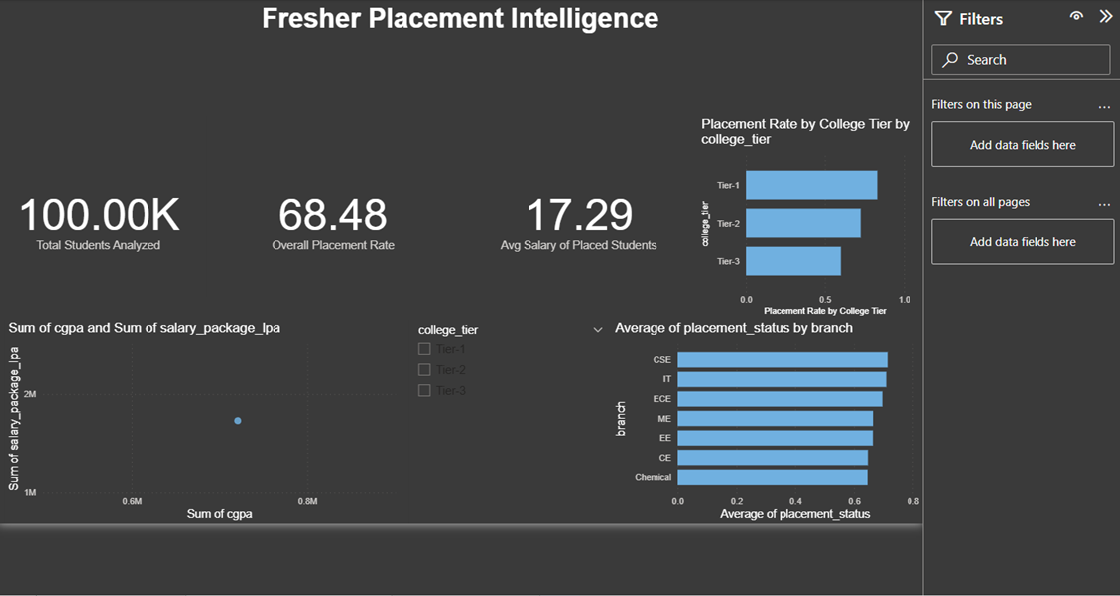

Layout of this report page (visuals, bound fields, positions):
{"tool":"powerbi","page":{"name":"Fresher Placement Intelligence","canvas":[1280,720],"ordinal":1},"visuals":[{"type":"card","fields":{"Values":["CountNonNull(placement_clean.placement_status)"]},"box":[0,160.5,279.9,279.9],"z":0},{"type":"card","fields":{"Values":["hr_clean.Overall Placement Rate"]},"box":[289.5,160.5,349.9,279.9],"z":1},{"type":"card","fields":{"Values":["Avg(placement_clean.salary_package_lpa)"]},"box":[639.5,160.5,329.3,279.9],"z":2},{"type":"clusteredBarChart","fields":{"Category":["placement_clean.college_tier"],"Y":["Avg(placement_clean.placement_status)"]},"box":[968.8,160.5,299.1,279.9],"z":3},{"type":"scatterChart","fields":{"X":["Sum(placement_clean.cgpa)"],"Y":["Sum(placement_clean.salary_package_lpa)"]},"box":[9.6,440.5,559.9,279.9],"z":4},{"type":"clusteredBarChart","fields":{"Category":["placement_clean.branch"],"Y":["Avg(placement_clean.placement_status)"]},"box":[849.4,440.5,430.9,279.9],"z":5},{"type":"slicer","fields":{"Values":["placement_clean.college_tier"]},"box":[569.5,440.5,279.9,279.9],"z":6},{"type":"textbox","box":[0,0,1280.3,112.5],"z":7}]}

Visuals, with their boxes on the page's 1280x720 design canvas (x1, y1, x2, y2). These are canvas units, not pixel positions in the 1120x596 screenshot, which may show the page scaled, cropped or inside an application window:
card - CountNonNull(placement_clean.placement_status): 0 160 280 440
card - hr_clean.Overall Placement Rate: 290 160 639 440
card - Avg(placement_clean.salary_package_lpa): 640 160 969 440
clusteredBarChart - placement_clean.college_tier x Avg(placement_clean.placement_status): 969 160 1268 440
scatterChart - Sum(placement_clean.cgpa) x Sum(placement_clean.salary_package_lpa): 10 440 570 720
clusteredBarChart - placement_clean.branch x Avg(placement_clean.placement_status): 849 440 1280 720
slicer - placement_clean.college_tier: 570 440 849 720
textbox: 0 0 1280 112
